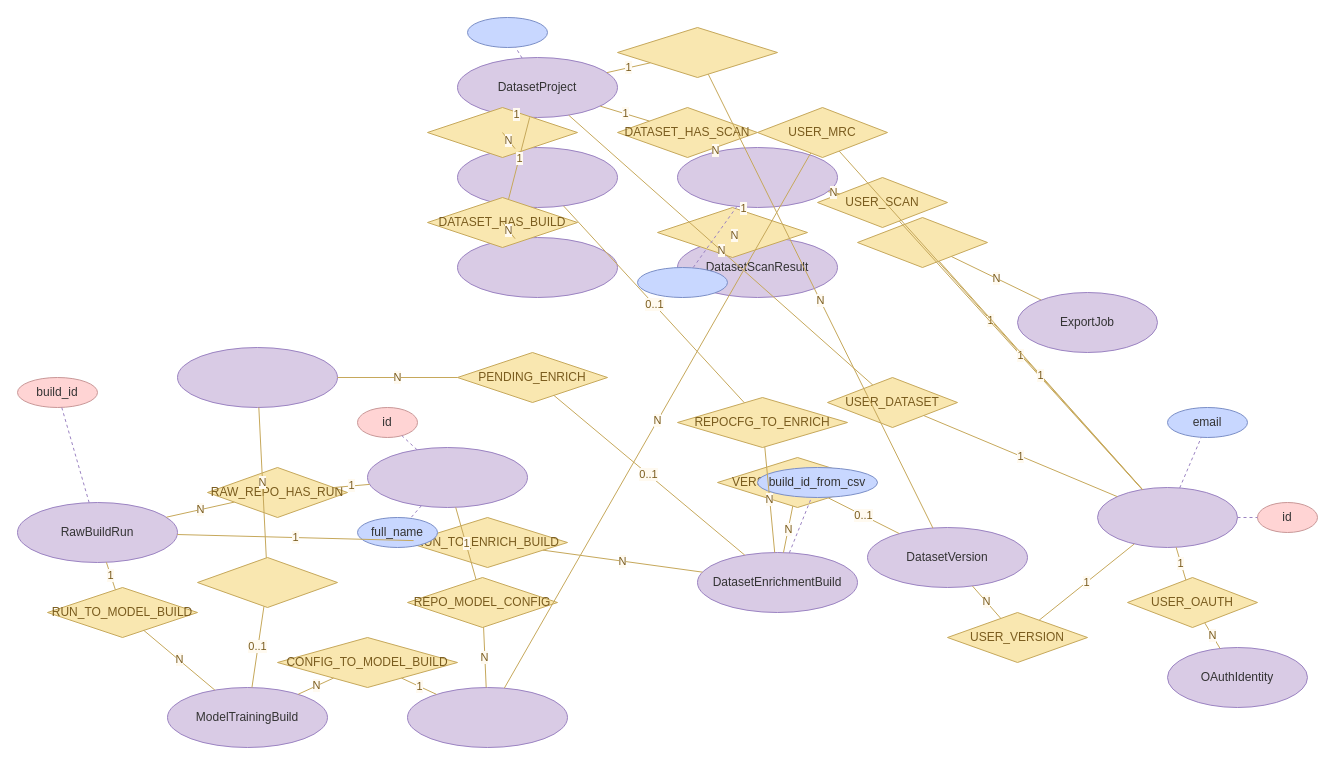
This 1335x765 diagram has some shape labels left out. Here are the shapes that lost their labels. From the top down, the centre of each, then its label:
pixel 507 32: name
pixel 697 52: DATASET_HAS_VERSION
pixel 502 132: DATASET_HAS_REPO
pixel 537 177: DatasetRepoConfig
pixel 757 177: DatasetScan
pixel 732 232: SCAN_HAS_RESULT
pixel 922 242: USER_EXPORT
pixel 537 267: DatasetBuild
pixel 682 282: tool_type
pixel 257 377: SonarScanPending
pixel 447 477: RawRepository
pixel 1167 517: User
pixel 267 582: PENDING_MODEL
pixel 487 717: ModelRepoConfig
